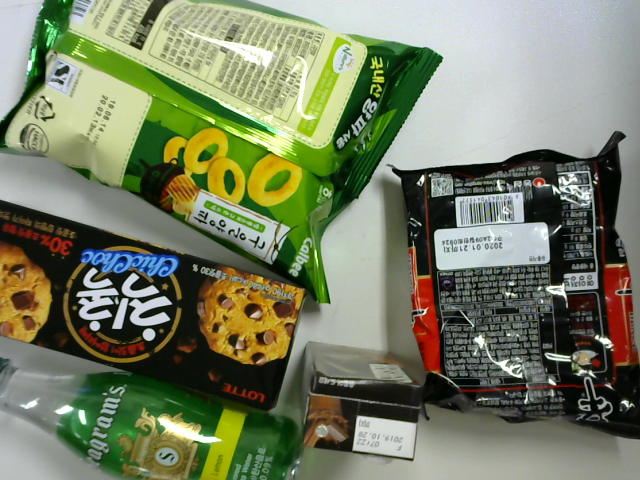Chicchok_Original_2400: (5, 202, 307, 408)
Grilled_Onions: (3, 4, 441, 306)
Hush_Choco_Drink: (297, 344, 423, 466)
Seagram_Lemon_Carbonated_Water: (3, 364, 306, 480)
Sinramen_Black: (387, 128, 640, 438)
